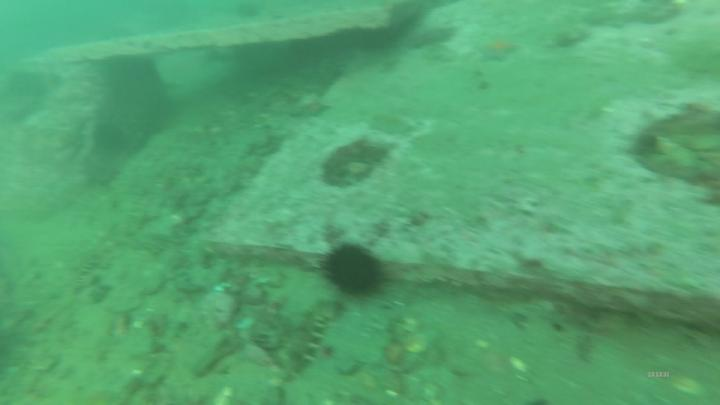echinus: (323, 241, 384, 299)
holothurian: (291, 307, 326, 377)
starfish: (480, 36, 520, 67)
